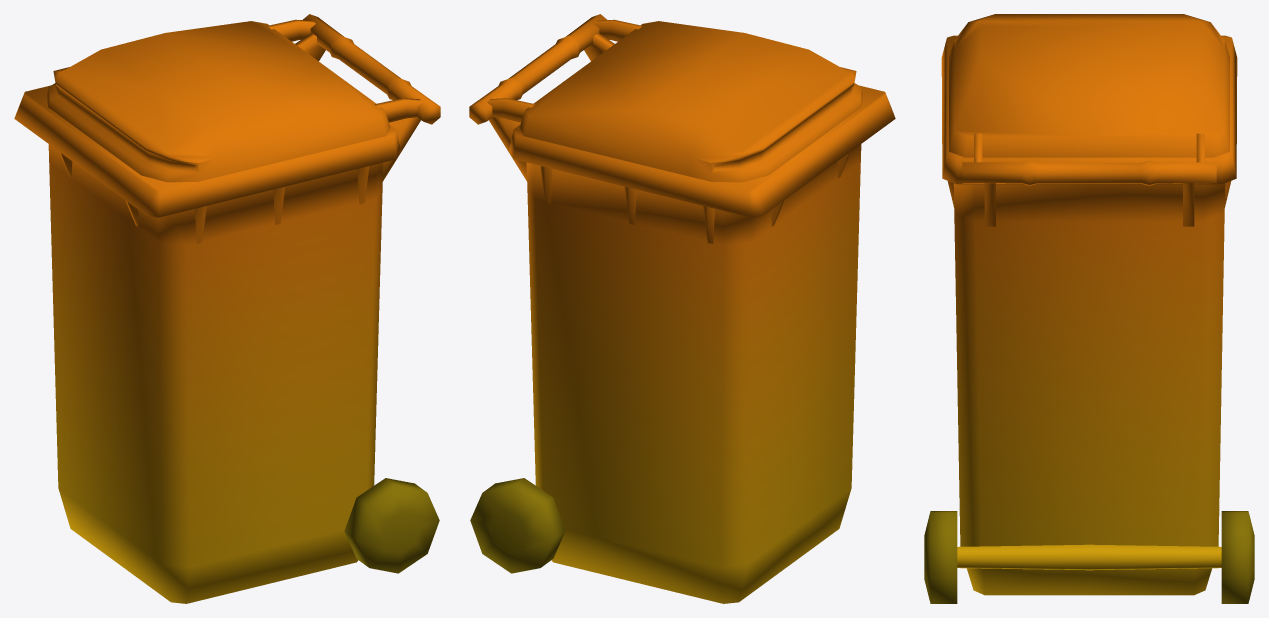
File: WheelyBinRed.glb
The picture shows the model from 3 angles, left to right: view 1: azimuth 30°, elevation 25°; view 2: azimuth 150°, elevation 25°; view 3: azimuth 270°, elevation 25°; orthographic projection. The views are drawn at different scales.
Parts seen in each view (by area): view 1: WheelyBinRed; view 2: WheelyBinRed; view 3: WheelyBinRed.
Boxes of the visible parts, x1=… form: WheelyBinRed: x1=14, y1=14, x2=440, y2=603; WheelyBinRed: x1=469, y1=14, x2=895, y2=603; WheelyBinRed: x1=924, y1=14, x2=1254, y2=603.
Bounding box in the file's own units: 1.42 × 2.14 × 1.31.
Materials: 1 (1 with a texture image).
